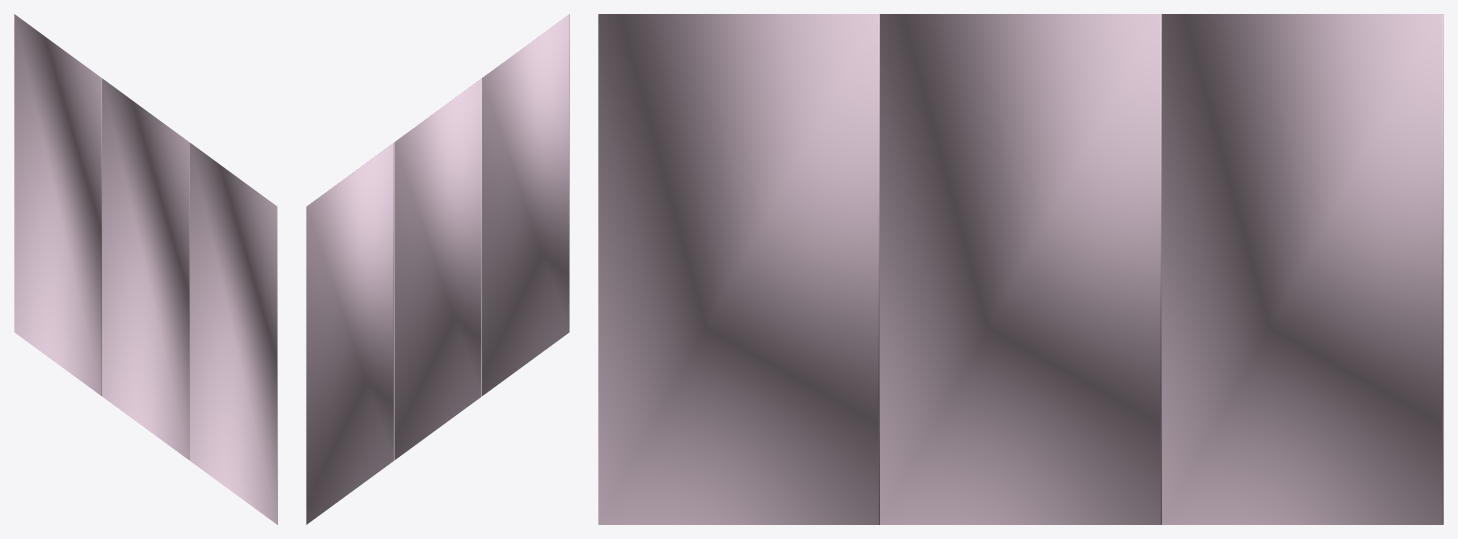
The model's file is 3page_pamphlet.fbx.
3 views of the same model, side by side, from view 1: azimuth 30°, elevation 25°; view 2: azimuth 150°, elevation 25°; view 3: azimuth 270°, elevation 25° (orthographic). The views are drawn at different scales.
Parts seen in each view (by area): view 1: page1, page3, page2; view 2: page1, page2, page3; view 3: page1, page2, page3.
Part boxes in pixels (bbox=[...]): page1: bbox=[189, 143, 277, 524]; page3: bbox=[102, 78, 189, 460]; page2: bbox=[14, 14, 101, 395]; page1: bbox=[482, 14, 569, 395]; page2: bbox=[306, 143, 393, 524]; page3: bbox=[394, 78, 481, 460]; page1: bbox=[598, 14, 879, 524]; page2: bbox=[1162, 14, 1443, 524]; page3: bbox=[880, 14, 1161, 524].
Size of the model in its own units: 0.1198 by 200 by 300.
